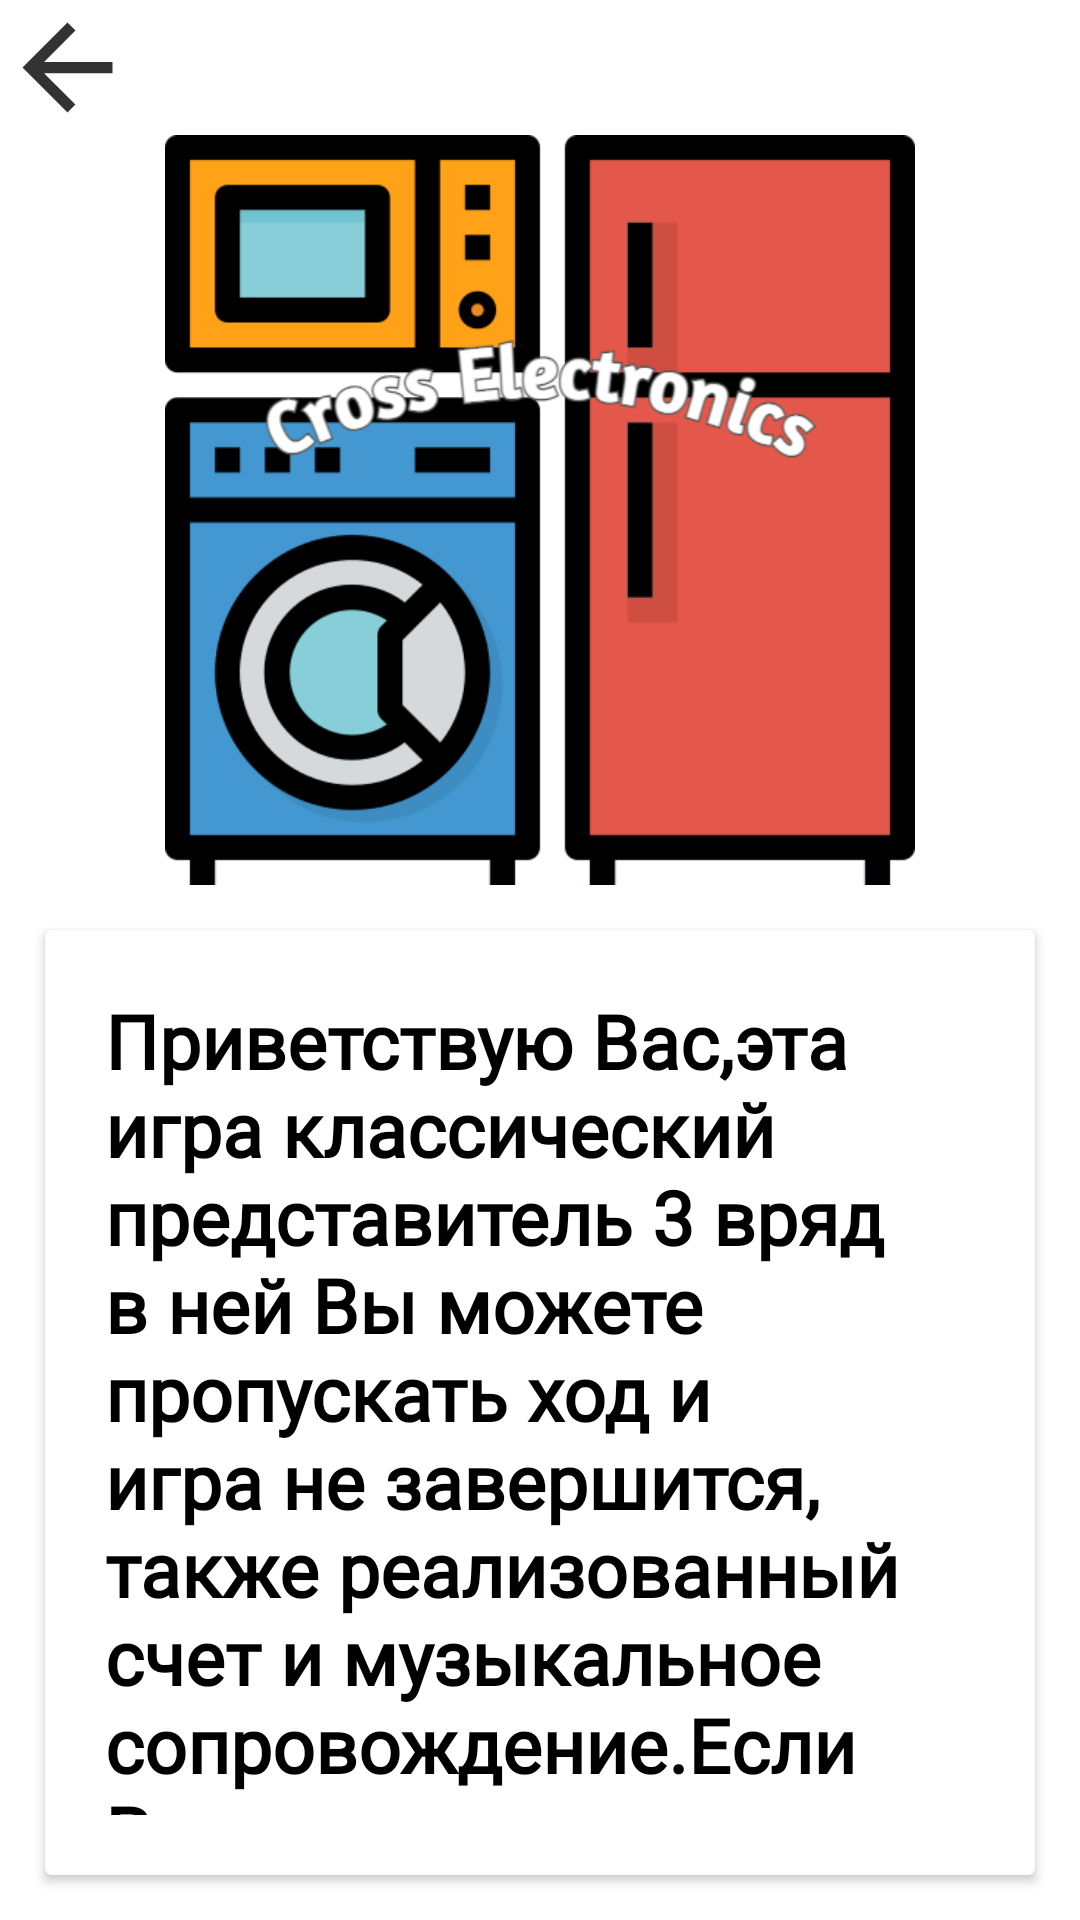

Locate icon controls on the screen. Image size 1080w x 1920h, boxes as (x1, y1, x2, y2).
arrow back: (22, 22, 113, 113)
